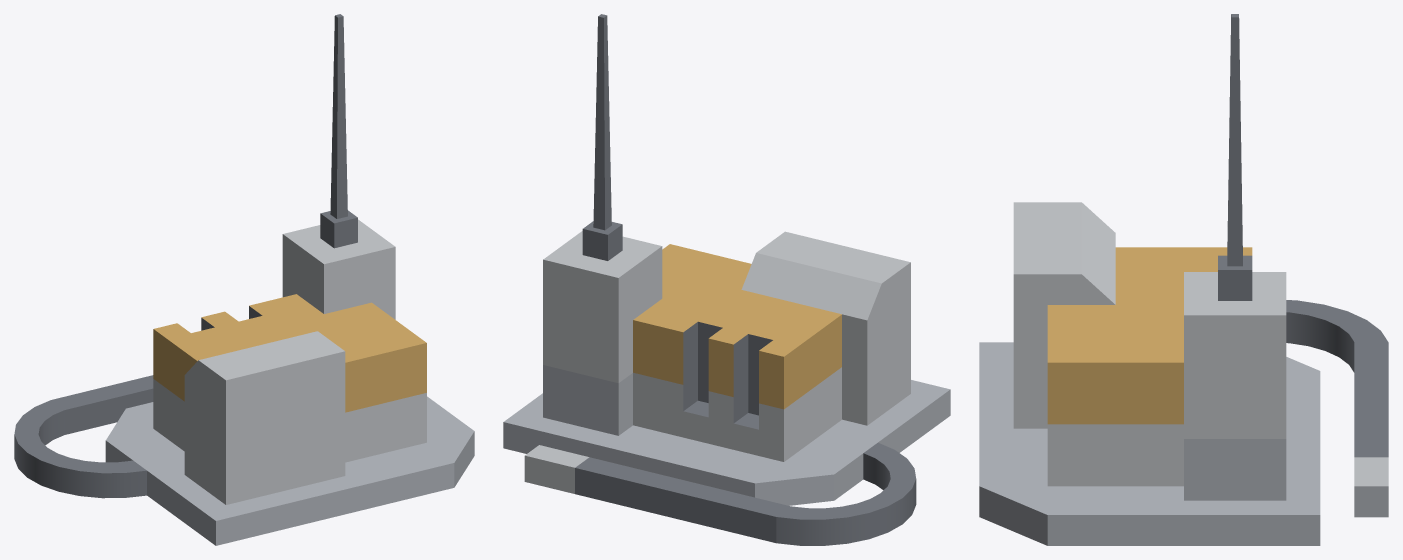
File: machine_wirelessCable.glb
The picture shows the model from 3 angles, left to right: view 1: azimuth 30°, elevation 25°; view 2: azimuth 150°, elevation 25°; view 3: azimuth 270°, elevation 25°; orthographic projection. The views are drawn at different scales.
Parts seen in each view (by area): view 1: machine_wirelessCable; view 2: machine_wirelessCable; view 3: machine_wirelessCable.
Part boxes in pixels (x1,y1,x2,y2): machine_wirelessCable: (14, 14, 474, 545); machine_wirelessCable: (503, 14, 950, 545); machine_wirelessCable: (979, 14, 1388, 545).
Size of the model in its own units: 0.75 by 0.8 by 0.6.
